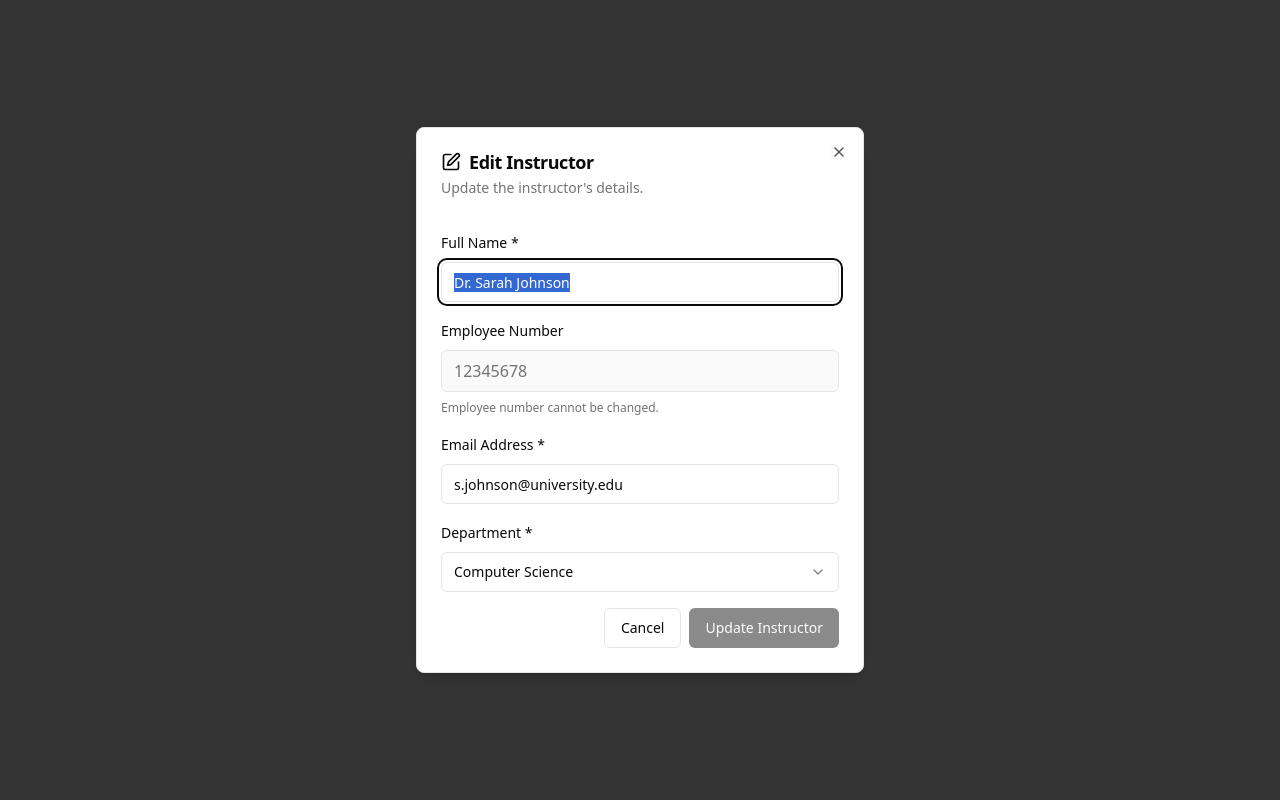
it: EditInstructorModal › enables update button when changes are made
The width and height of the screenshot is (1280, 800).
Step 1. Type " Updated" into the field showing "Dr. Sarah Johnson" → (640, 282), box [441,262,839,302]
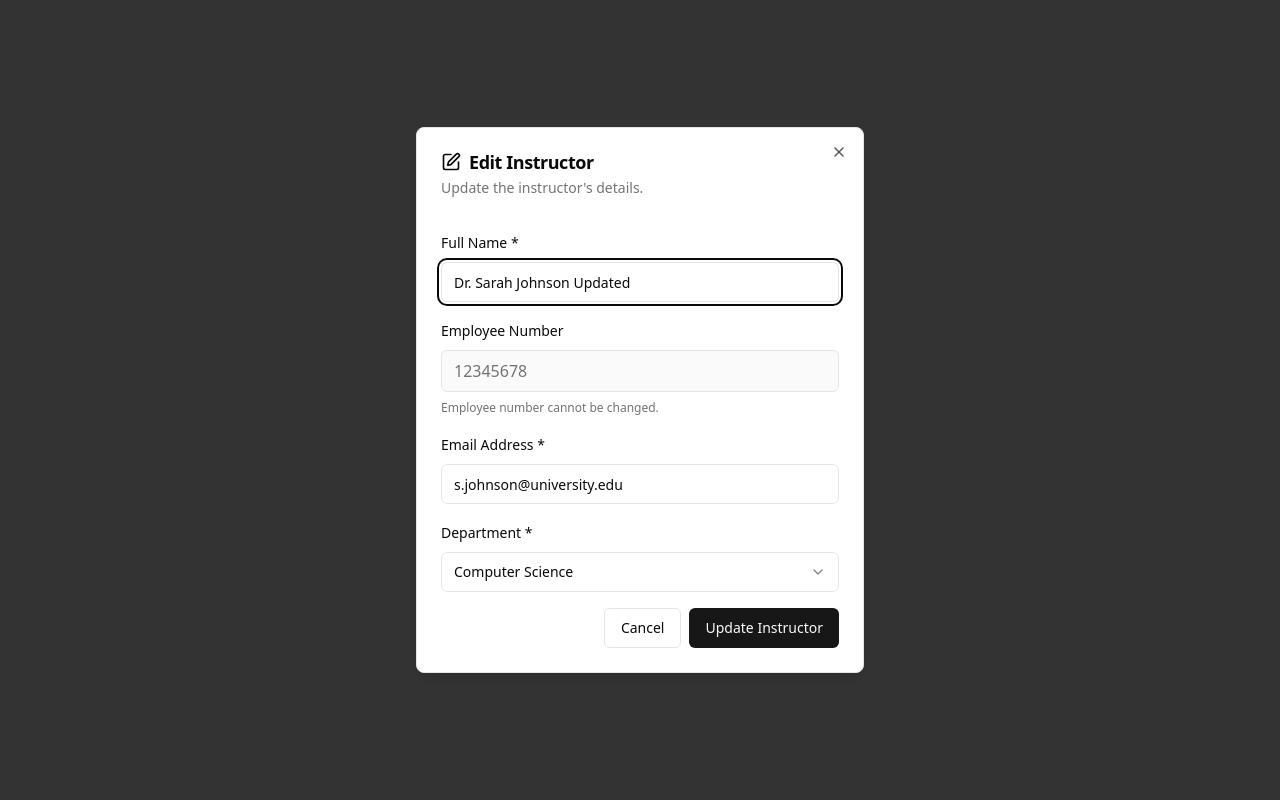
expect the button "Update Instructor" is enabled: met, box [690,608,839,648]
